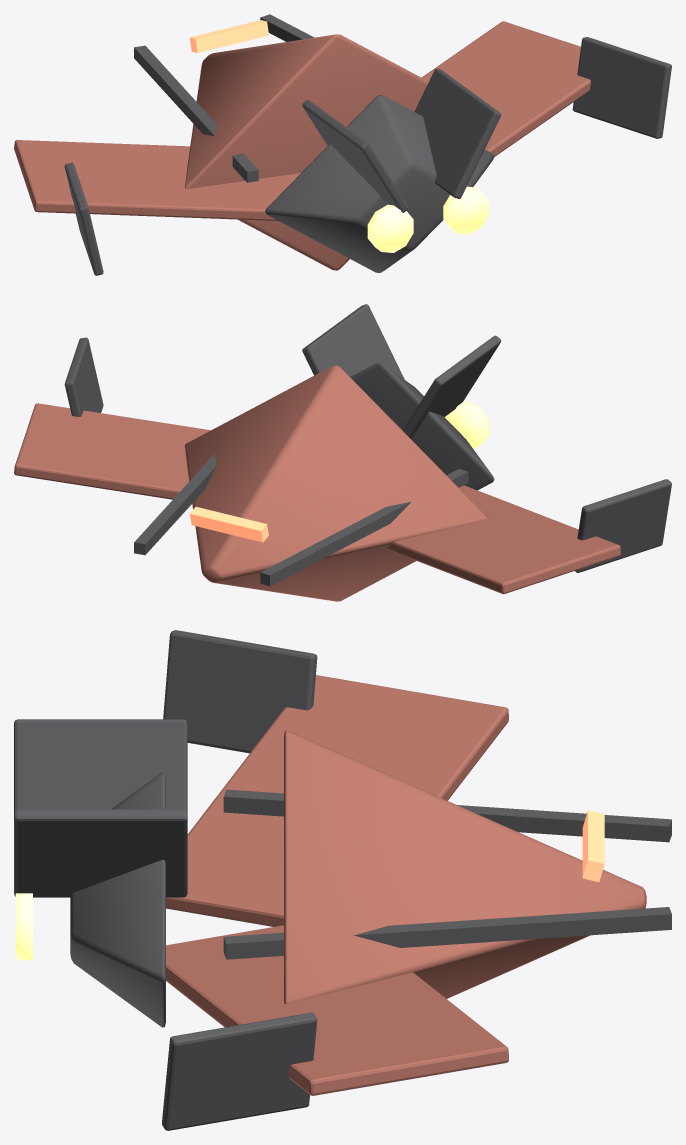
File: tarn.glb
The picture shows the model from 3 angles, top to bottom: view 1: azimuth 30°, elevation 25°; view 2: azimuth 150°, elevation 25°; view 3: azimuth 270°, elevation 25°; orthographic projection. The views are drawn at different scales.
Visible parts, largest first — view 1: Rumpf.001, Heck, Fluegel-1, Fluegel1, Spitze1, Leitwerk1, Leitwerk-1, Kante-1, Duese-1.001, Duese1.001, Spitze-1, Auge.003 (+1 smaller); view 2: Rumpf.001, Fluegel1, Fluegel-1, Heck, Spitze-1, Leitwerk1, Kante-1, Leitwerk-1, Spitze1, Kante1, Auge.003, Duese-1.001; view 3: Rumpf.001, Fluegel-1, Fluegel1, Leitwerk-1, Spitze-1, Spitze1, Leitwerk1, Heck, Kante1, Kante-1, Auge.003, Duese1.001.
Part boxes in pixels (x1,y1,x2,y2): Rumpf.001: (185,34,428,270); Heck: (265,95,494,272); Fluegel-1: (14,140,300,220); Fluegel1: (422,21,590,156); Spitze1: (572,37,671,138); Leitwerk1: (414,68,501,198); Leitwerk-1: (302,100,408,212); Kante-1: (134,45,258,182); Duese-1.001: (367,204,413,252); Duese1.001: (443,186,489,234); Spitze-1: (64,162,103,275); Auge.003: (190,20,268,52); Rumpf.001: (185,365,488,601); Fluegel1: (14,403,210,499); Fluegel-1: (386,485,620,594); Heck: (350,363,494,490); Spitze-1: (575,479,671,572); Leitwerk1: (302,304,404,379); Kante-1: (260,468,468,586); Leitwerk-1: (402,335,501,439); Spitze1: (64,337,103,416); Kante1: (134,454,216,555); Auge.003: (190,507,268,542); Duese-1.001: (445,401,489,448); Rumpf.001: (284,730,646,1003); Fluegel-1: (166,675,508,926); Fluegel1: (166,925,508,1095); Leitwerk-1: (14,719,187,812); Spitze-1: (163,630,317,753); Spitze1: (162,1012,317,1130); Leitwerk1: (14,809,187,897); Heck: (70,772,165,1027); Kante1: (223,907,671,959); Kante-1: (223,789,671,842); Auge.003: (582,810,604,882); Duese1.001: (15,893,32,960).
Size of the model in its own units: 2.82 by 1.07 by 1.9.
